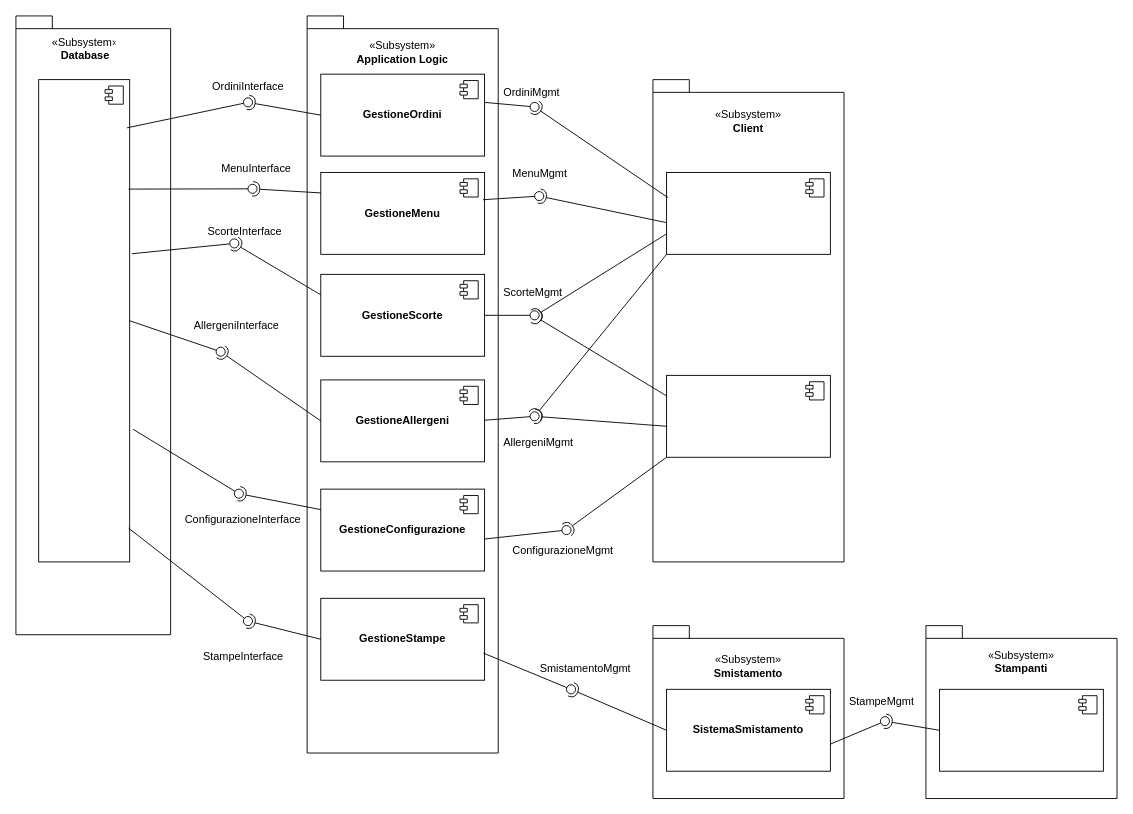
The diagram is 1133 pixels wide and 814 high, and some of its shapes have lost their labels. Each missing label, with the box of its shape:
Database: (38, 79, 130, 562)
Stampante: (939, 688, 1103, 771)
WebAppBackOffice: (666, 374, 830, 457)
WebAppCassa: (666, 172, 830, 254)
